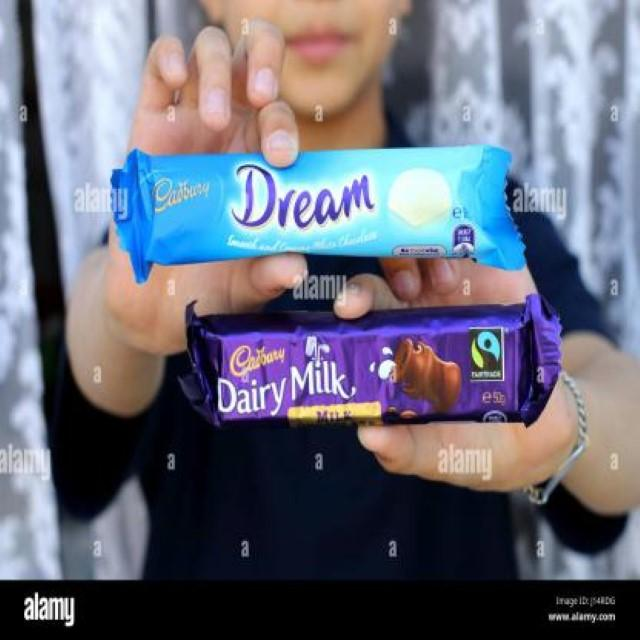cadbury_chocolate: (188, 312, 554, 423)
